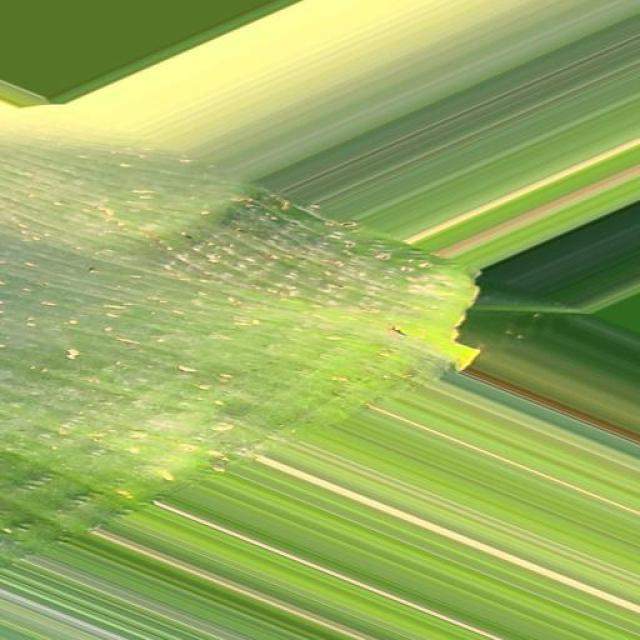Black_rot: (0, 126, 500, 518)
